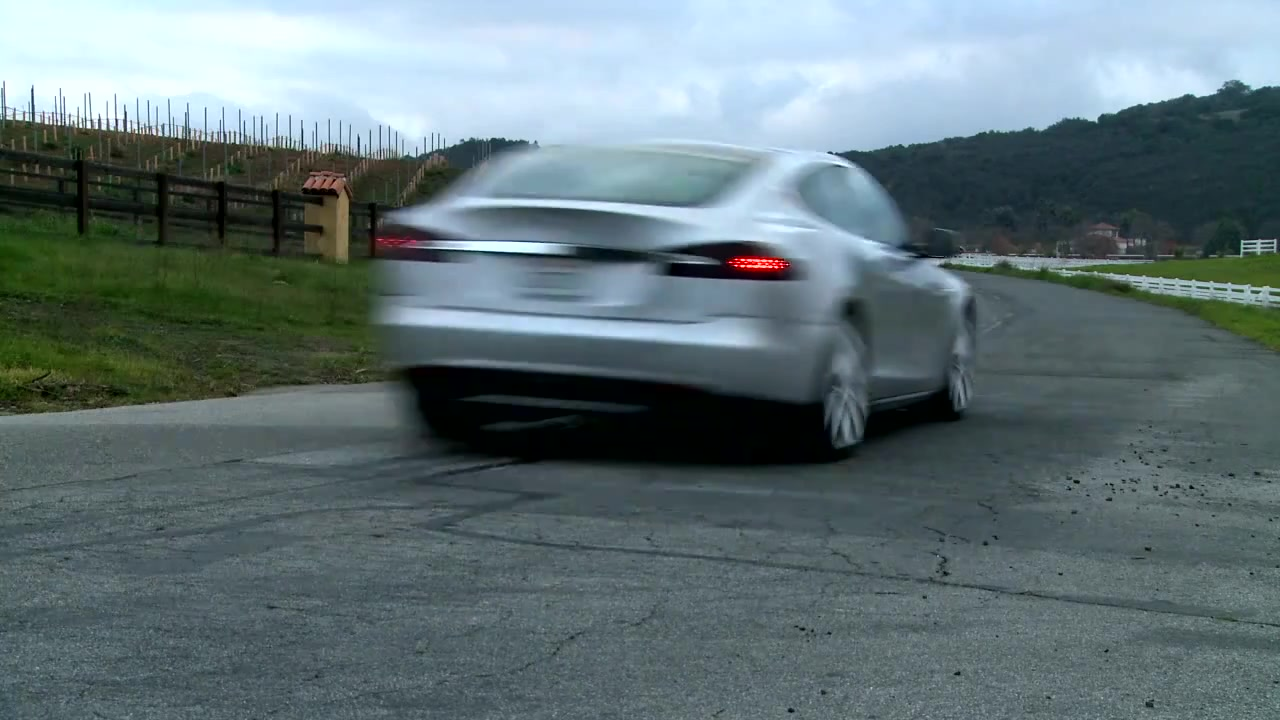car: (369, 133, 981, 460)
